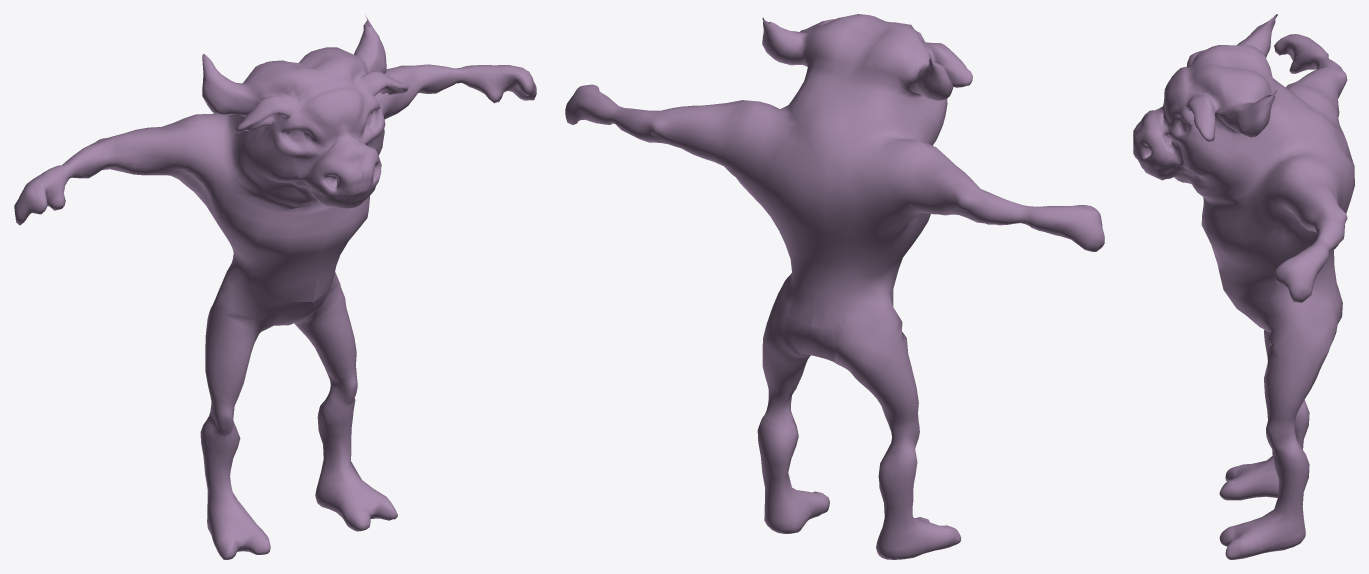
File: cow_retop_scaled_2.fbx
The picture shows the model from 3 angles, left to right: view 1: azimuth 30°, elevation 25°; view 2: azimuth 150°, elevation 25°; view 3: azimuth 270°, elevation 25°; orthographic projection. The views are drawn at different scales.
Visible parts, largest first — view 1: polySurface1; view 2: polySurface1; view 3: polySurface1.
Boxes of the visible parts, x1,y1,x2,y2 form: polySurface1: [14, 15, 536, 559]; polySurface1: [565, 14, 1104, 559]; polySurface1: [1133, 14, 1354, 559].
Bounding box in the file's own units: 588 × 529 × 226.
